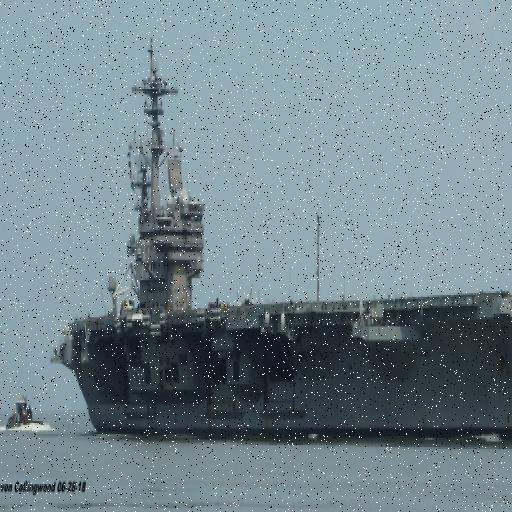Portanaves: (52, 38, 512, 453)
